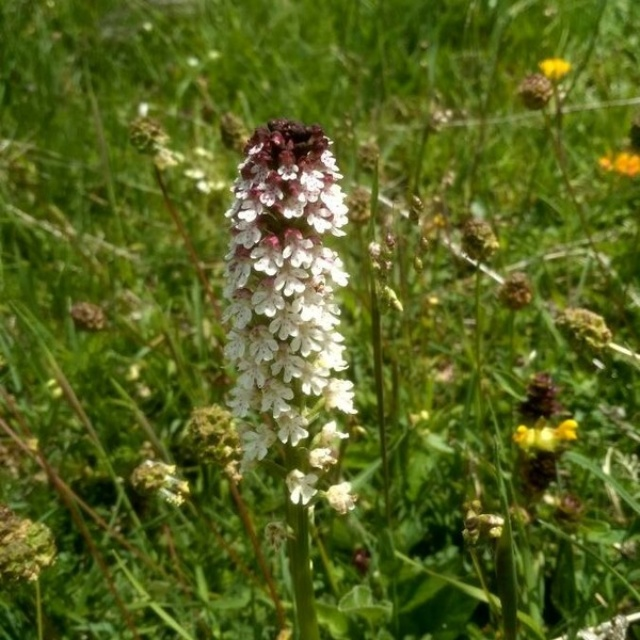obstacle: (80, 57, 588, 609)
